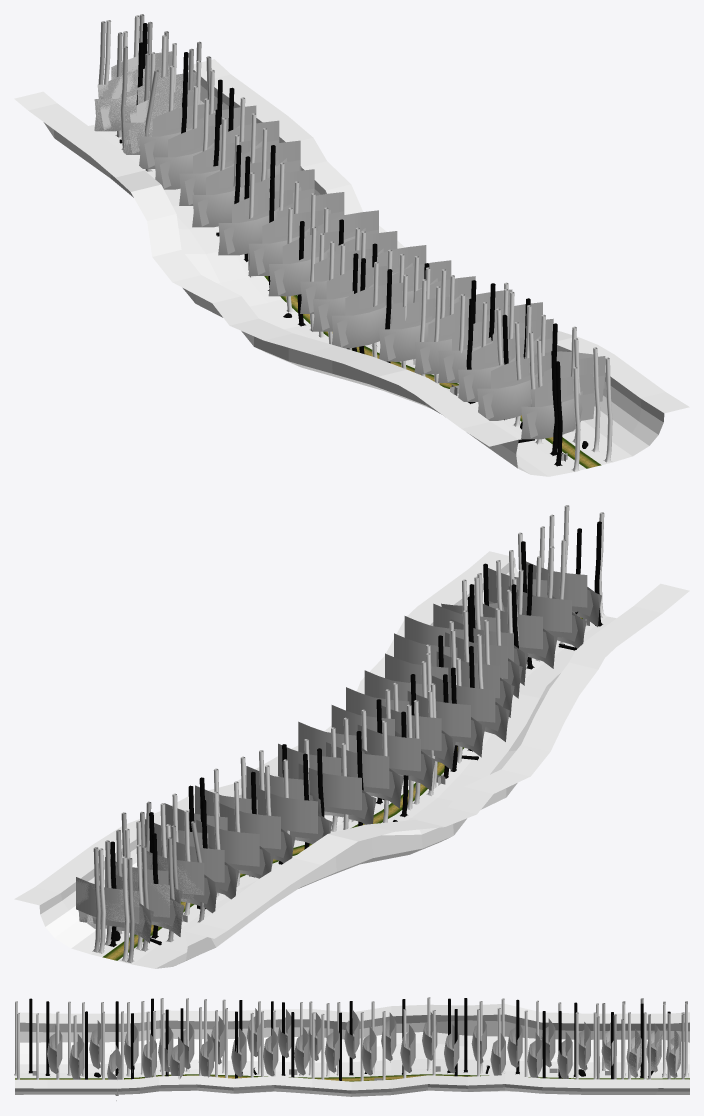
Rendered from forest_3.fbx.
3 renders of one model, top to bottom at view 1: azimuth 30°, elevation 25°; view 2: azimuth 150°, elevation 25°; view 3: azimuth 270°, elevation 25°, orthographic. The views are drawn at different scales.
Parts seen in each view (by area): view 1: polySurface3825, polySurface3826, Object06, polySurface2886; view 2: polySurface3825, polySurface3826, polySurface2886, Object06; view 3: polySurface3825, polySurface3826, Object06, polySurface2768, polySurface2886.
Boxes of the visible parts, left/top/right/bottom form: polySurface3825: left=14, top=14, right=689, bottom=476; polySurface3826: left=115, top=23, right=562, bottom=466; Object06: left=264, top=276, right=601, bottom=468; polySurface2886: left=206, top=161, right=267, bottom=194; polySurface3825: left=14, top=505, right=689, bottom=968; polySurface3826: left=108, top=521, right=602, bottom=951; polySurface2886: left=256, top=787, right=317, bottom=833; Object06: left=102, top=617, right=582, bottom=960; polySurface3825: left=14, top=997, right=689, bottom=1100; polySurface3826: left=29, top=998, right=670, bottom=1080; Object06: left=15, top=1074, right=689, bottom=1081; polySurface2768: left=32, top=1066, right=610, bottom=1080; polySurface2886: left=481, top=1018, right=486, bottom=1058.
Size of the model in its own units: 23381 by 10892 by 76318.
